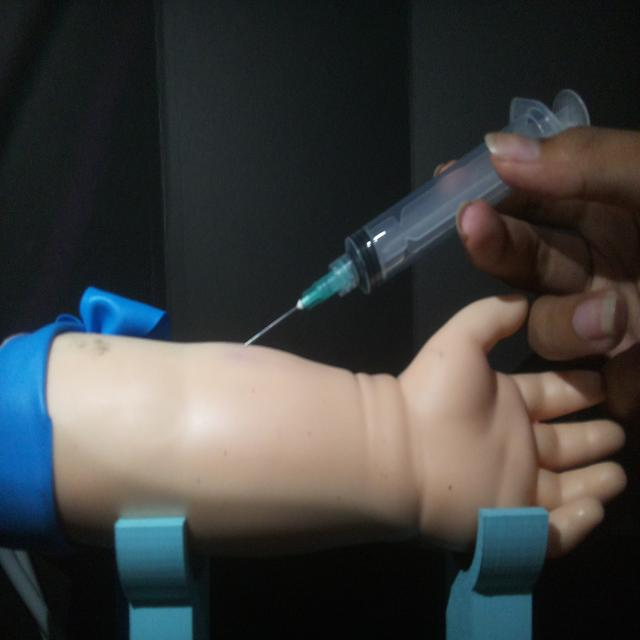30deg: (238, 84, 593, 350)
